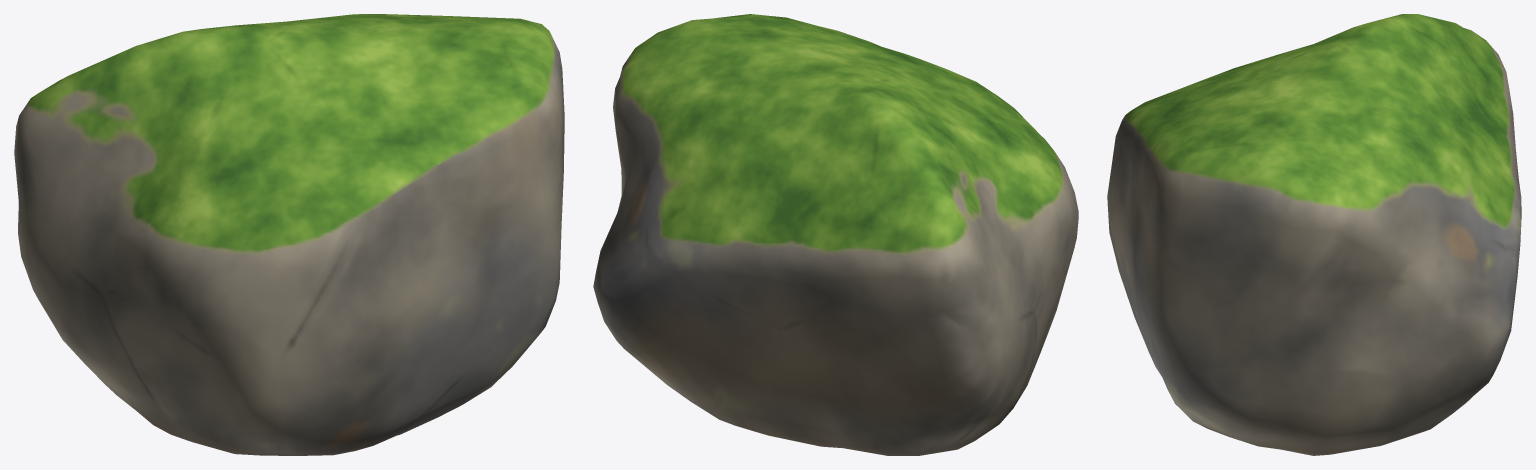
The model's file is Rock_Mossy_B.fbx.
The picture shows the model from 3 angles, left to right: view 1: azimuth 30°, elevation 25°; view 2: azimuth 150°, elevation 25°; view 3: azimuth 270°, elevation 25°; orthographic projection. The views are drawn at different scales.
Parts seen in each view (by area): view 1: Rock_Mossy_B; view 2: Rock_Mossy_B; view 3: Rock_Mossy_B.
Boxes of the visible parts, box(x1,y1,x2,y2) form: Rock_Mossy_B: box(14, 14, 564, 455); Rock_Mossy_B: box(593, 14, 1078, 455); Rock_Mossy_B: box(1107, 14, 1521, 455).
Bounding box in the file's own units: 1.44 × 1.16 × 1.19.
Materials: 1 (1 with a texture image).
